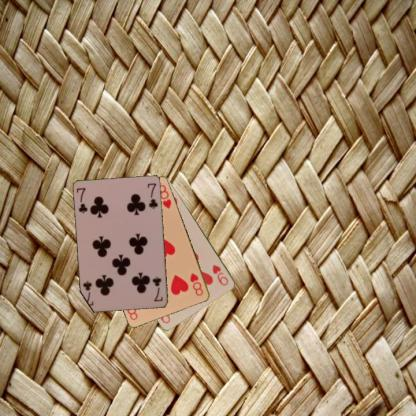7c: (74, 185, 89, 215), (150, 273, 164, 303)
8h: (188, 270, 204, 297)
9h: (210, 262, 229, 287)
